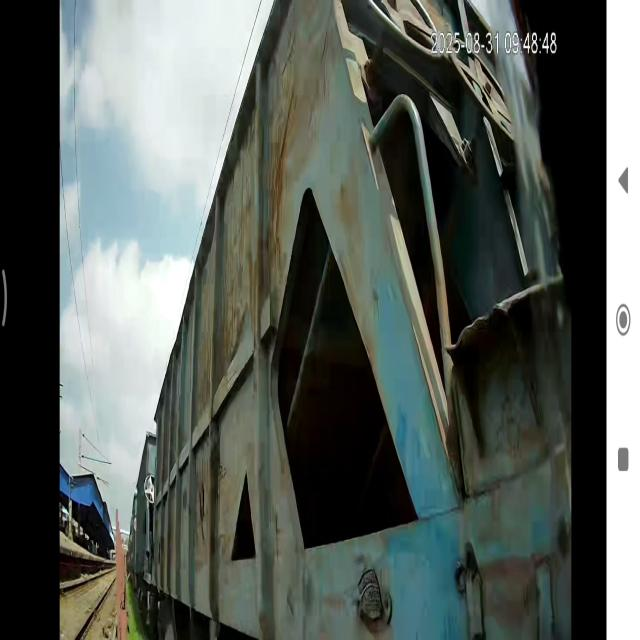coach: (152, 0, 367, 640)
